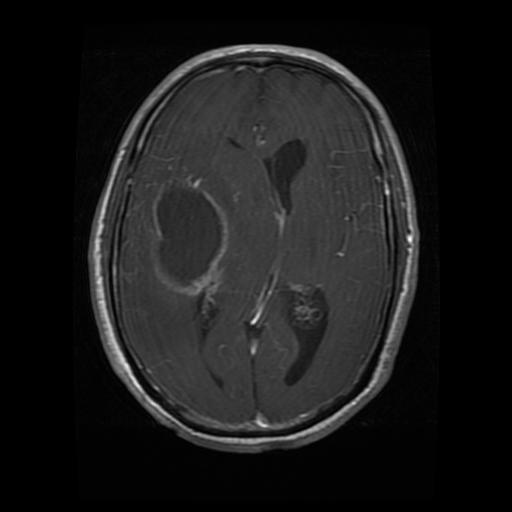Gliomia_tumour: (148, 176, 229, 298)
